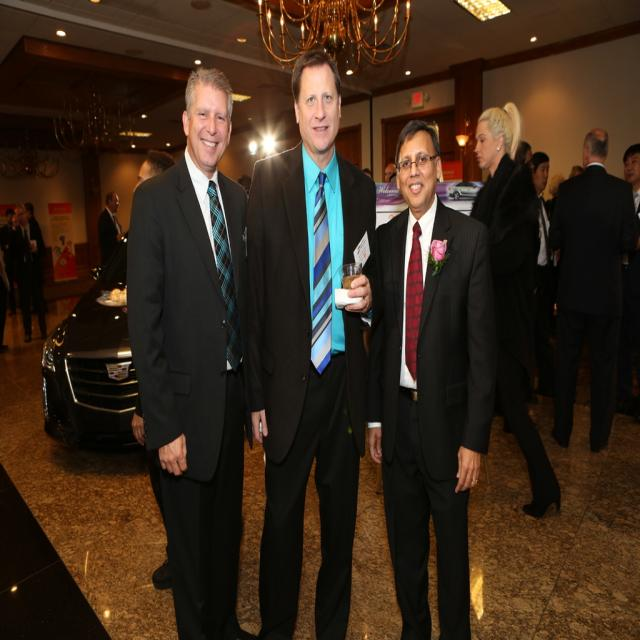car: (34, 224, 151, 463)
